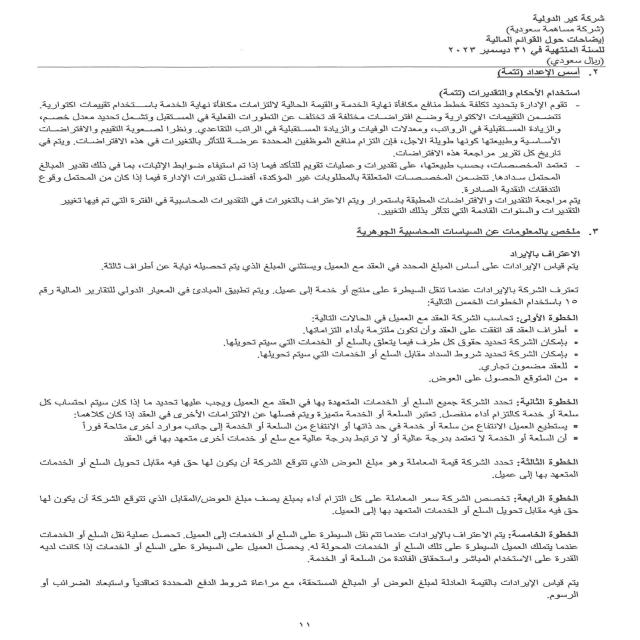notes: (466, 33, 611, 45)
text: (24, 66, 602, 615)
